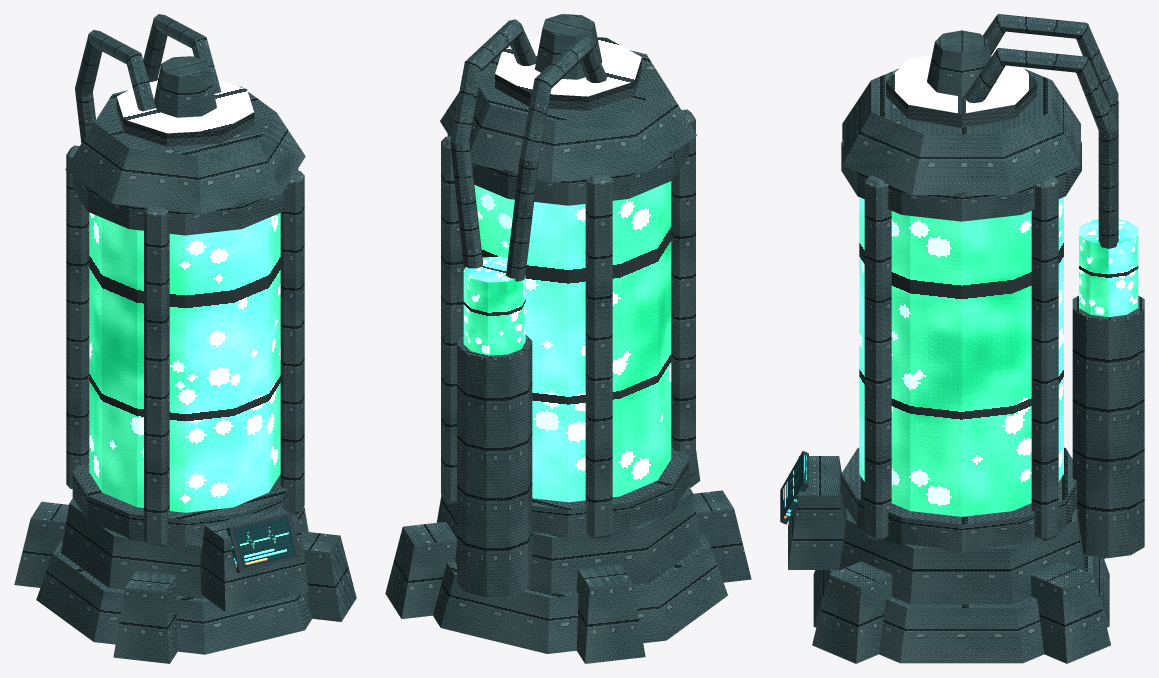
Rendered from stasis_tank.glb.
The picture shows the model from 3 angles, left to right: view 1: azimuth 30°, elevation 25°; view 2: azimuth 150°, elevation 25°; view 3: azimuth 270°, elevation 25°; orthographic projection. The views are drawn at different scales.
Visible parts, largest first — view 1: stasis_tank__hosp_metal_trim, stasis_tank__hosp_bio_glass, stasis_tank__hosp_ceiling_panel, stasis_tank__hosp_monitor_screen; view 2: stasis_tank__hosp_metal_trim, stasis_tank__hosp_bio_glass, stasis_tank__hosp_ceiling_panel; view 3: stasis_tank__hosp_metal_trim, stasis_tank__hosp_bio_glass, stasis_tank__hosp_ceiling_panel, stasis_tank__hosp_monitor_screen.
Boxes of the visible parts, left/top/right/bottom form: stasis_tank__hosp_metal_trim: left=14, top=14, right=356, bottom=663; stasis_tank__hosp_bio_glass: left=89, top=212, right=280, bottom=512; stasis_tank__hosp_ceiling_panel: left=116, top=78, right=254, bottom=146; stasis_tank__hosp_monitor_screen: left=226, top=512, right=301, bottom=572; stasis_tank__hosp_metal_trim: left=385, top=14, right=751, bottom=663; stasis_tank__hosp_bio_glass: left=463, top=181, right=671, bottom=502; stasis_tank__hosp_ceiling_panel: left=495, top=37, right=641, bottom=110; stasis_tank__hosp_metal_trim: left=788, top=14, right=1144, bottom=663; stasis_tank__hosp_bio_glass: left=859, top=197, right=1138, bottom=516; stasis_tank__hosp_ceiling_panel: left=886, top=55, right=1037, bottom=127; stasis_tank__hosp_monitor_screen: left=780, top=451, right=808, bottom=524.
Bounding box in the file's own units: 1.34 × 2.82 × 1.64.
Materials: 4 (4 with a texture image).
